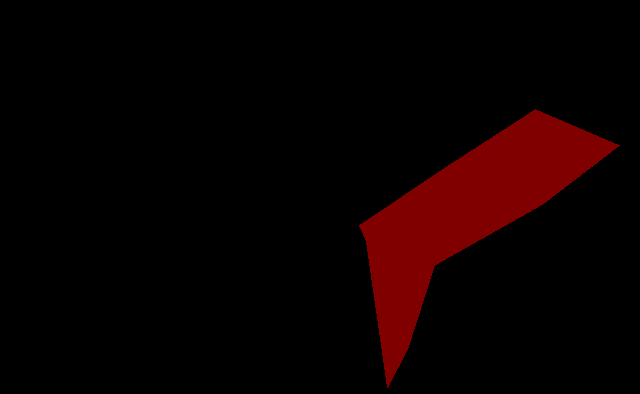fire: (359, 109, 619, 387)
